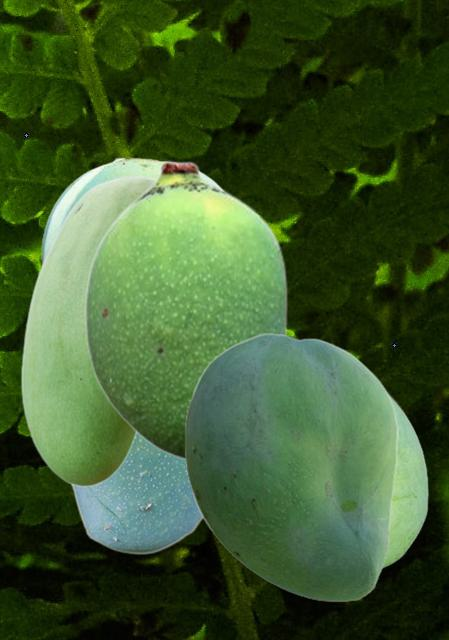green_mango: (84, 160, 290, 462), (184, 333, 397, 601), (20, 175, 154, 486), (41, 156, 222, 263), (69, 436, 202, 554), (384, 392, 427, 569)
